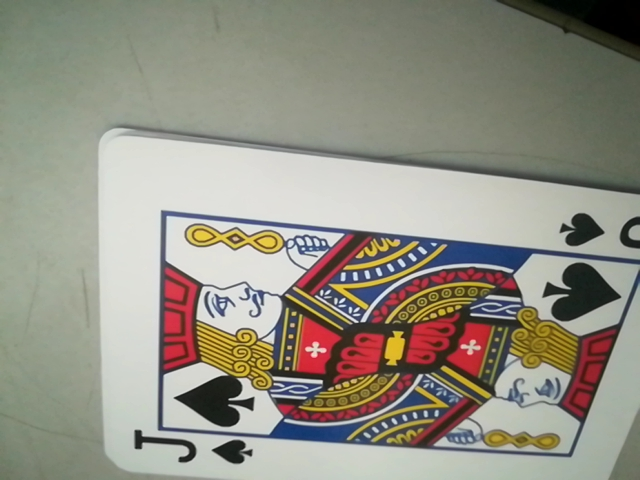ht j: (117, 427, 266, 474)
